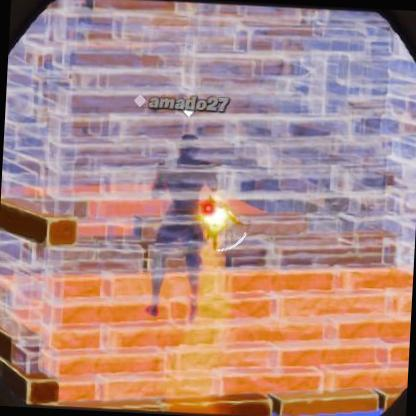person: (146, 132, 212, 330)
